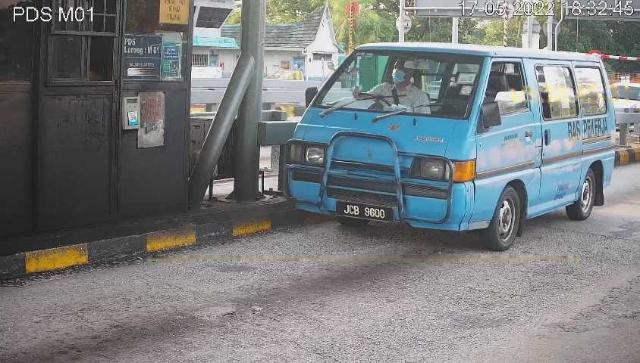License_Plate: (336, 202, 396, 226)
van: (285, 44, 618, 252)
